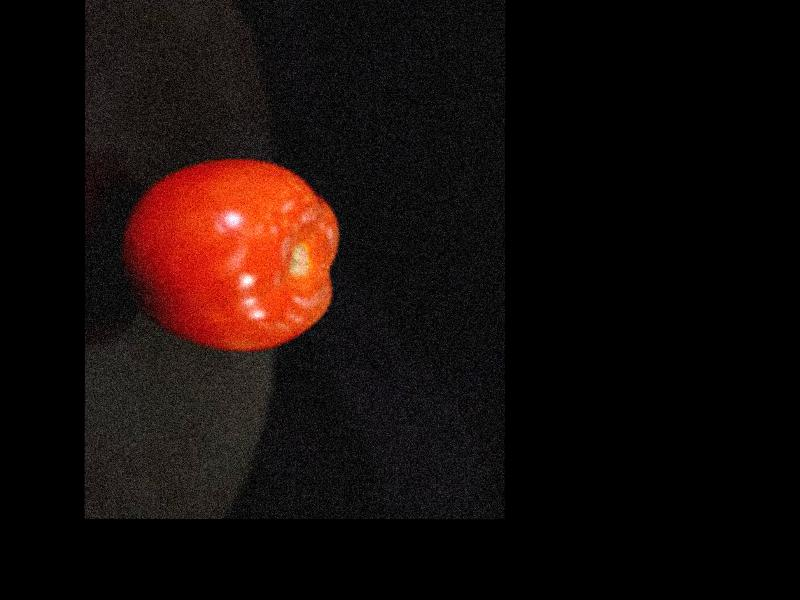Tomato: (126, 156, 339, 350)
